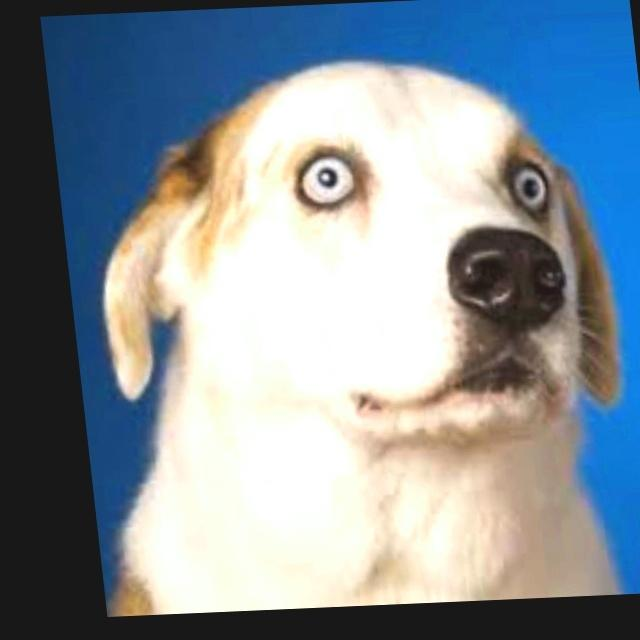dog: (62, 14, 640, 505)
